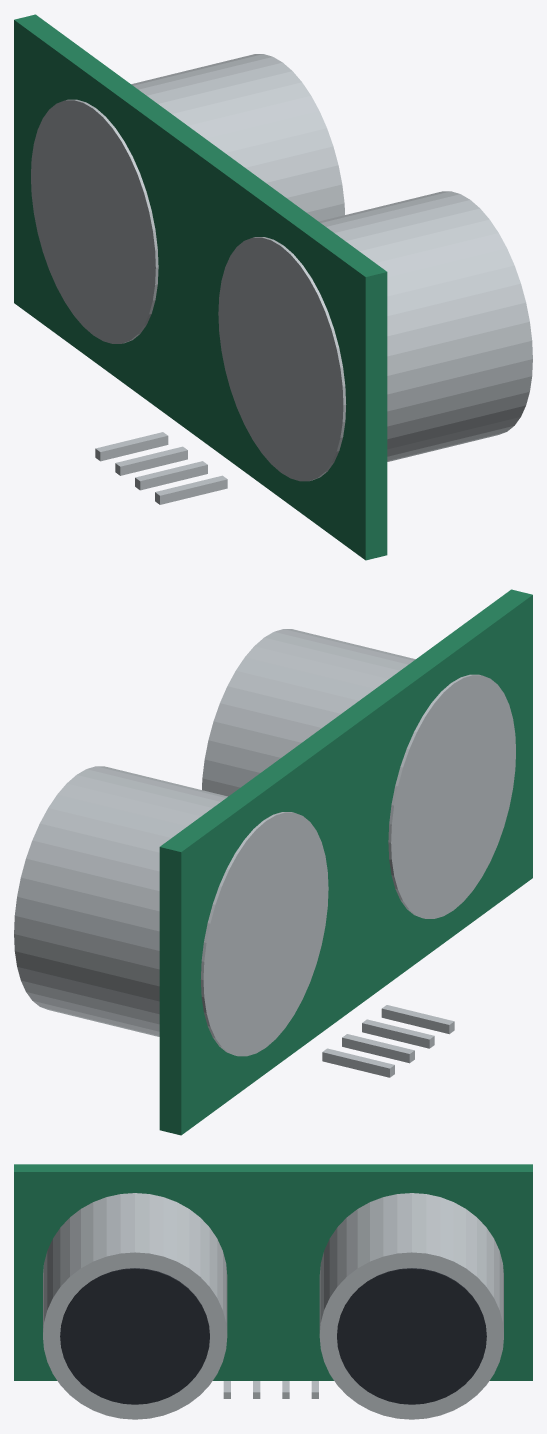
The model's file is sensor.glb.
3 renders of one model, top to bottom at view 1: azimuth 30°, elevation 25°; view 2: azimuth 150°, elevation 25°; view 3: azimuth 270°, elevation 25°, orthographic. The views are drawn at different scales.
Visible parts, largest first — view 1: HC_SR04_PCB_A, transdutor_A168, transdutor_A192, pino_A_GND, pino_A_TRIG, pino_A_VCC, pino_A_ECHO; view 2: HC_SR04_PCB_A, transdutor_A192, transdutor_A168, pino_A_VCC, pino_A_GND, pino_A_TRIG, pino_A_ECHO; view 3: HC_SR04_PCB_A, transdutor_A168, transdutor_A192, face_A168, face_A192.
Part boxes in pixels (box(x1,y1,x2,y2)): HC_SR04_PCB_A: box(14, 14, 387, 560); transdutor_A168: box(218, 191, 532, 481); transdutor_A192: box(31, 54, 344, 343); pino_A_GND: box(95, 432, 168, 461); pino_A_TRIG: box(135, 461, 207, 490); pino_A_VCC: box(155, 475, 227, 504); pino_A_ECHO: box(115, 446, 187, 475); HC_SR04_PCB_A: box(159, 589, 532, 1135); transdutor_A192: box(14, 766, 328, 1056); transdutor_A168: box(202, 629, 515, 918); pino_A_VCC: box(381, 1005, 454, 1034); pino_A_GND: box(322, 1048, 394, 1077); pino_A_TRIG: box(362, 1019, 434, 1048); pino_A_ECHO: box(342, 1034, 414, 1063); HC_SR04_PCB_A: box(14, 1164, 532, 1380); transdutor_A168: box(43, 1193, 227, 1419); transdutor_A192: box(319, 1193, 503, 1419); face_A168: box(60, 1268, 209, 1404); face_A192: box(337, 1268, 486, 1404).
Size of the model in its own units: 0.0186 by 0.0223 by 0.045.
